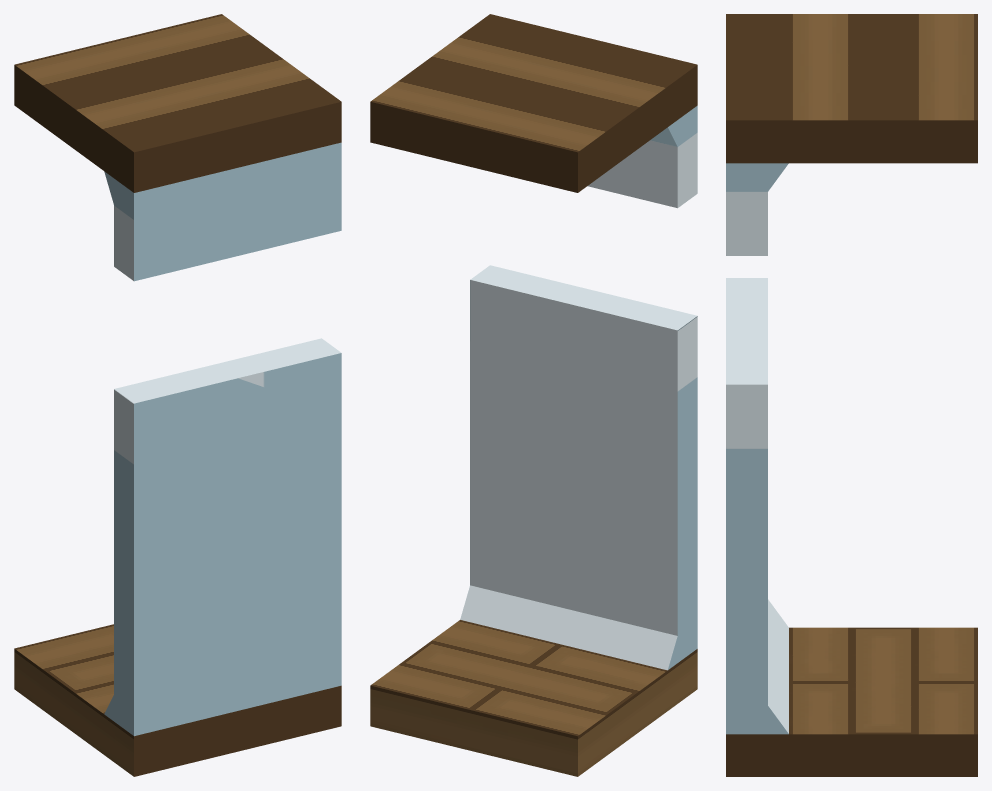
Rendered from HomeWallWindowFrontMid.obj.
3 renders of one model, left to right at view 1: azimuth 30°, elevation 25°; view 2: azimuth 150°, elevation 25°; view 3: azimuth 270°, elevation 25°, orthographic. The views are drawn at different scales.
Visible parts, largest first — view 1: Wall, Mid; view 2: Wall, Mid; view 3: Mid, Wall.
Boxes of the visible parts, box(x1,y1,x2,y2) form: Wall: box(104, 142, 341, 736); Mid: box(14, 14, 341, 776); Wall: box(460, 105, 697, 670); Mid: box(370, 14, 697, 776); Mid: box(726, 14, 977, 776); Wall: box(726, 163, 788, 734).
Bounding box in the file's own units: 1 × 2.88 × 1.
2 materials, 2 textured.
